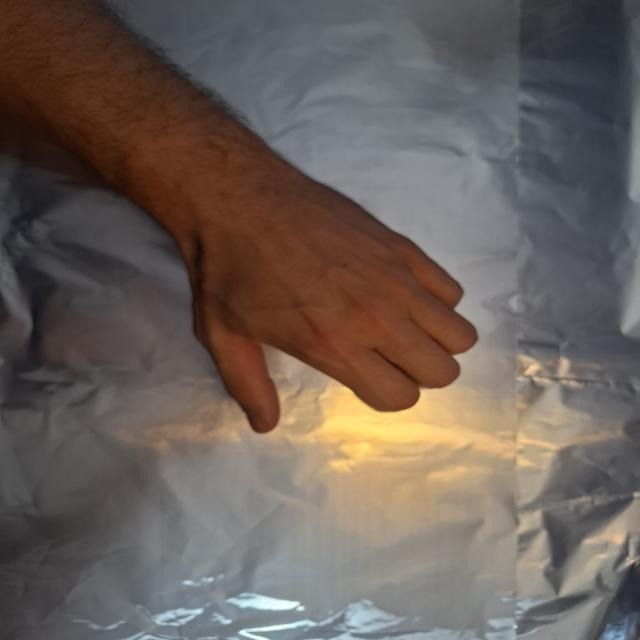glove_off: (175, 184, 483, 436)
